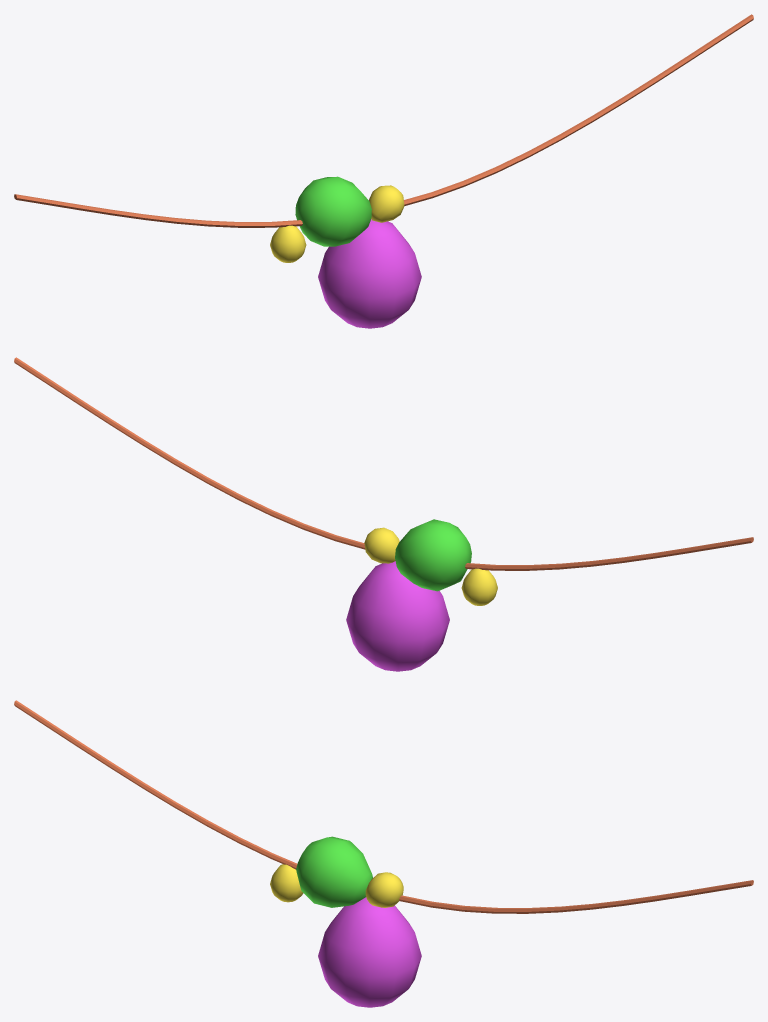
File: decor3.fbx
3 views of the same model, one above another, from view 1: azimuth 30°, elevation 25°; view 2: azimuth 150°, elevation 25°; view 3: azimuth 330°, elevation 25° (orthographic).
Parts seen in each view (by area): view 1: Sphere.002, Cylinder, Sphere.001, Sphere.007, Sphere.006; view 2: Sphere.002, Cylinder, Sphere.001, Sphere.006, Sphere.007; view 3: Sphere.002, Cylinder, Sphere.001, Sphere.007, Sphere.006.
Boxes of the visible parts, x1,y1,x2,y2 form: Sphere.002: (318,219,421,328); Cylinder: (14,14,753,227); Sphere.001: (295,176,371,246); Sphere.007: (369,185,404,222); Sphere.006: (270,225,306,262); Sphere.002: (346,561,449,671); Cylinder: (14,357,753,570); Sphere.001: (395,519,471,591); Sphere.006: (461,568,497,605); Sphere.007: (364,527,399,563); Sphere.002: (318,897,421,1007); Cylinder: (14,700,753,913); Sphere.001: (296,836,372,907); Sphere.007: (365,872,403,907); Sphere.006: (270,864,303,902).
Bounding box in the file's own units: 2579 × 722 × 315.
